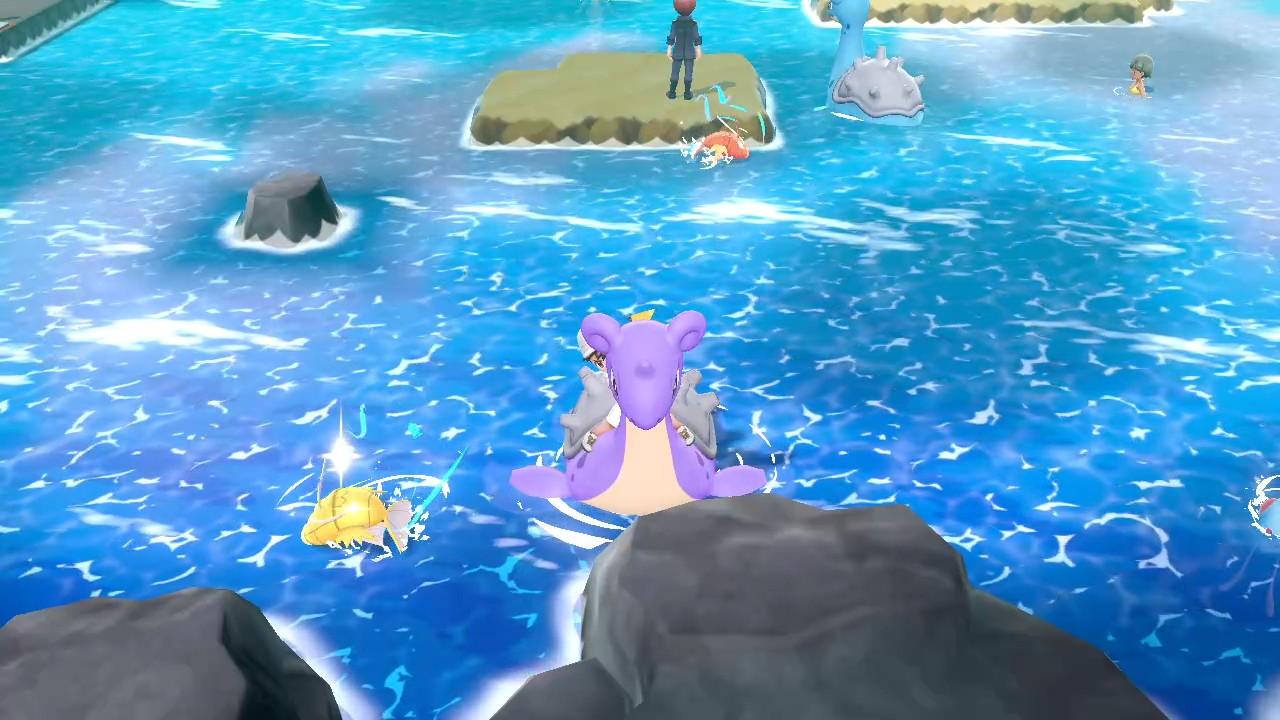Golden: (286, 472, 429, 561)
Red: (686, 122, 756, 168)
